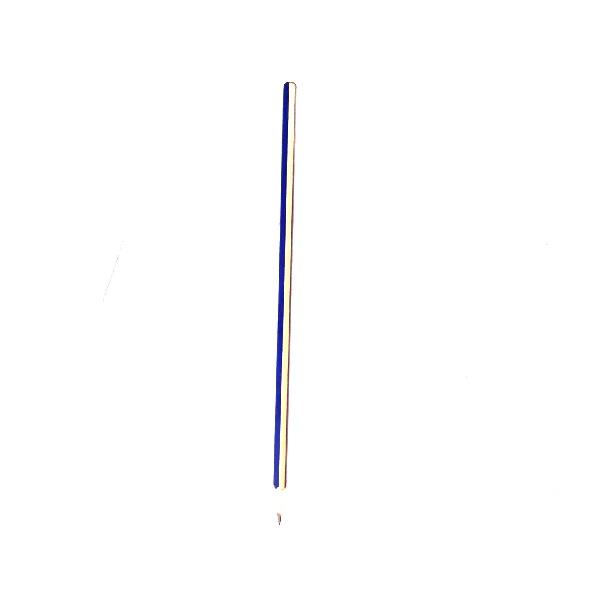pencil: (270, 79, 293, 535)
